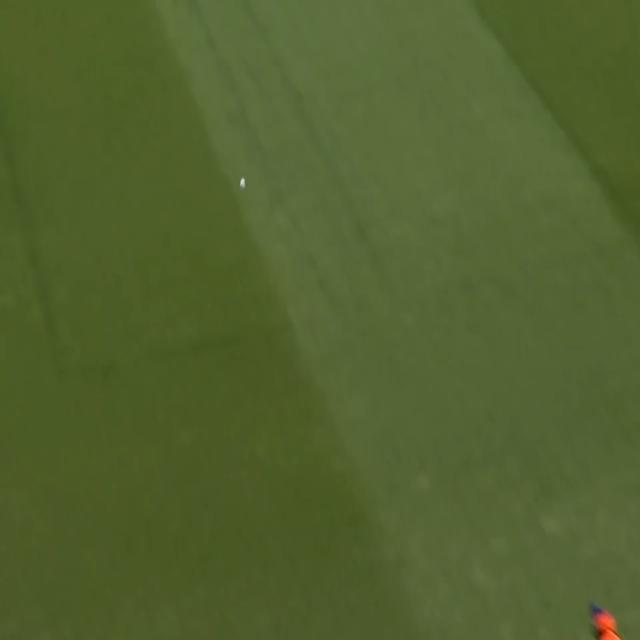ball: (236, 173, 252, 194)
